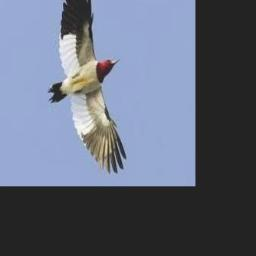Woodpecker: (48, 0, 126, 173)
